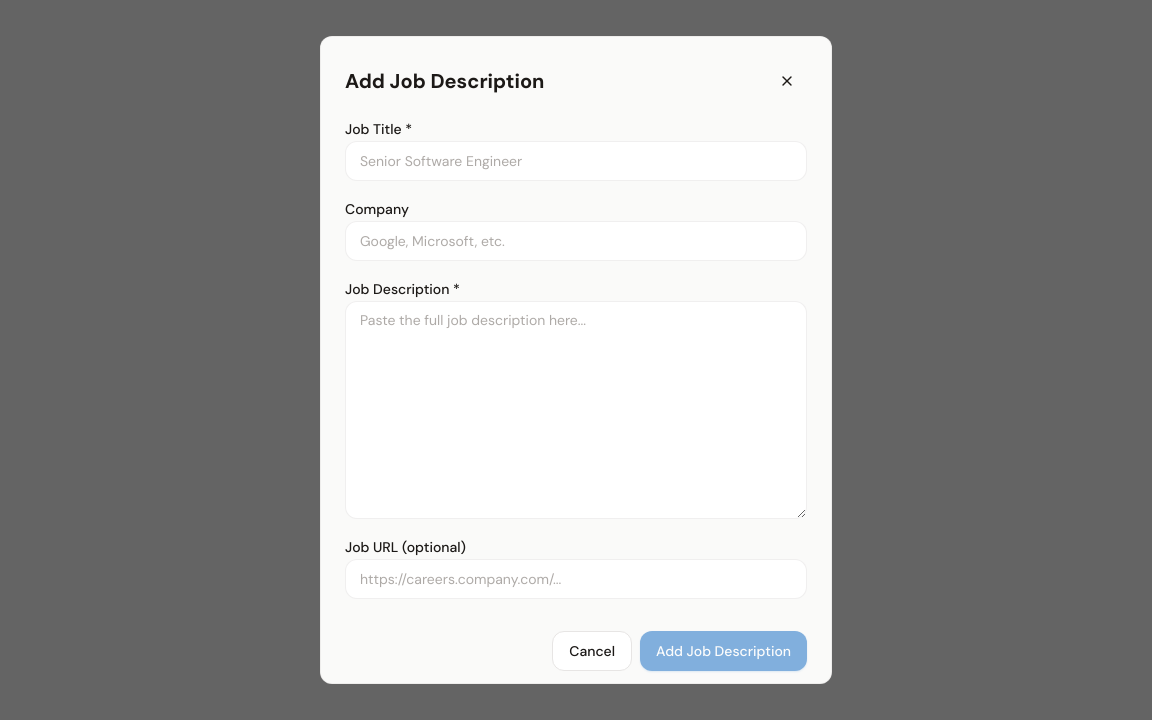
Test: AddJobModal › needs a title and a description before it submits
This screenshot has width=1152, height=720.
Check: the button "Add Job Description" is disabled, box [640,631,807,671]
In the field labelled "Job Title *": (576, 161) [345,141,807,181], type "Backend Intern"
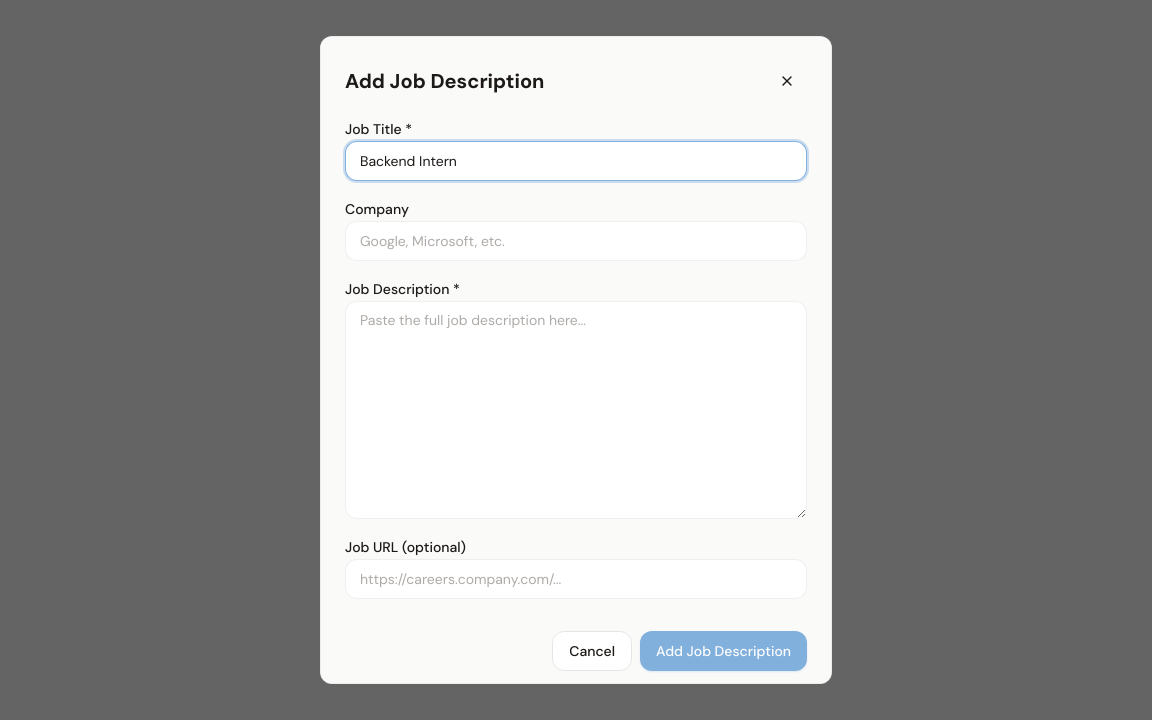
Check: the button "Add Job Description" is disabled, box [640,631,807,671]
In the text box labelled "Job Description *": (576, 410) [345,301,807,519], type "Build APIs"
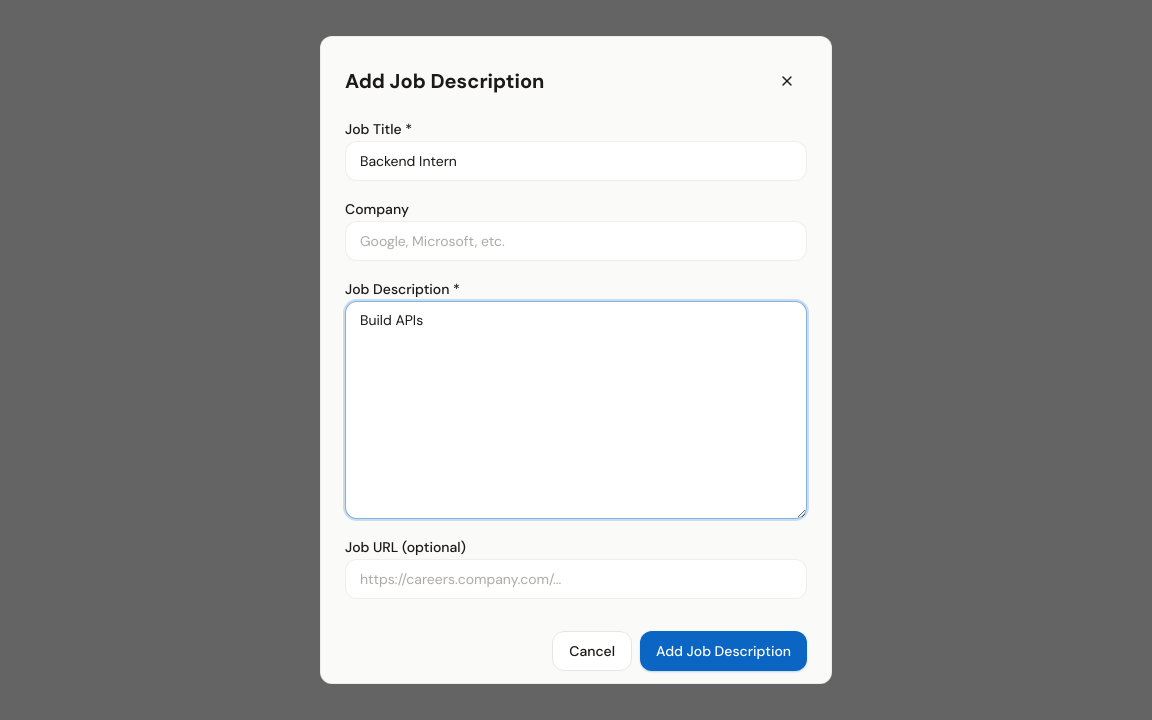
Check: the button "Add Job Description" is enabled, box [640,631,807,671]
